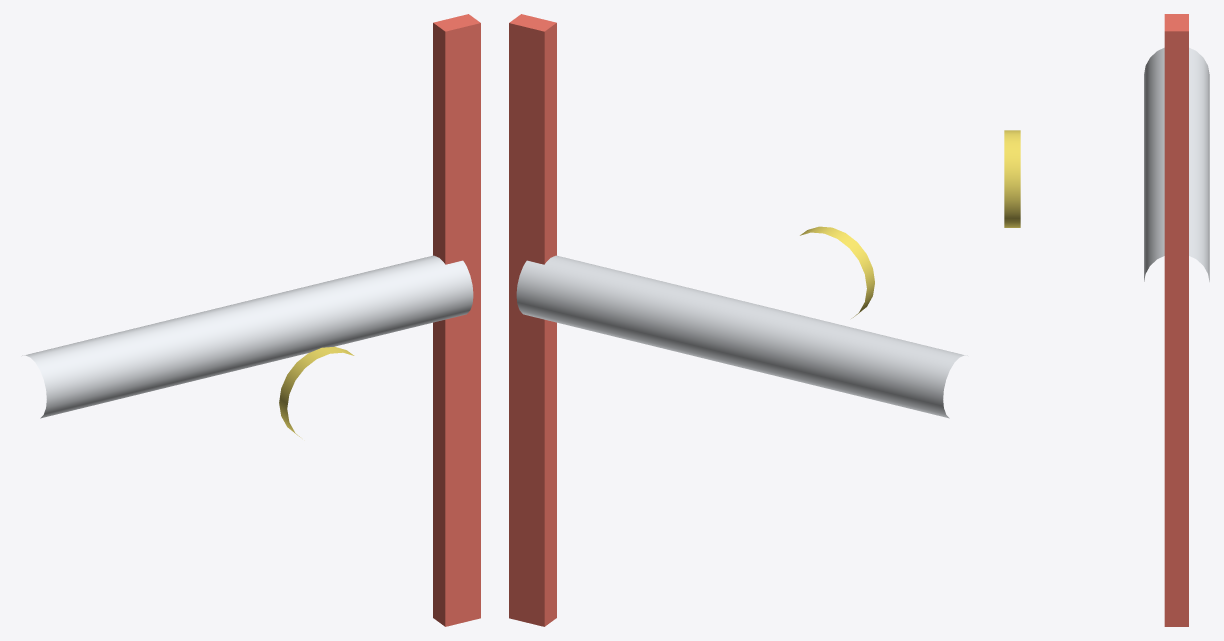
The model's file is tacheometric_stadia_distance_height.glb.
The picture shows the model from 3 angles, left to right: view 1: azimuth 30°, elevation 25°; view 2: azimuth 150°, elevation 25°; view 3: azimuth 270°, elevation 25°; orthographic projection.
Parts seen in each view (by area): view 1: TacheometerAnallaticTelescope, VerticalLevellingStadiaRod, StadiaCrossHairReticleRing; view 2: TacheometerAnallaticTelescope, VerticalLevellingStadiaRod, StadiaCrossHairReticleRing; view 3: VerticalLevellingStadiaRod, TacheometerAnallaticTelescope, StadiaCrossHairReticleRing.
Boxes of the visible parts, x1,y1,x2,y2 form: TacheometerAnallaticTelescope: (22,255,473,418); VerticalLevellingStadiaRod: (433,14,480,626); StadiaCrossHairReticleRing: (279,346,354,437); TacheometerAnallaticTelescope: (516,255,967,418); VerticalLevellingStadiaRod: (509,14,556,626); StadiaCrossHairReticleRing: (800,226,874,318); VerticalLevellingStadiaRod: (1164,14,1188,626); TacheometerAnallaticTelescope: (1144,47,1209,281); StadiaCrossHairReticleRing: (1004,130,1020,227).
Size of the model in its own units: 1.25 by 1.6 by 0.5.
